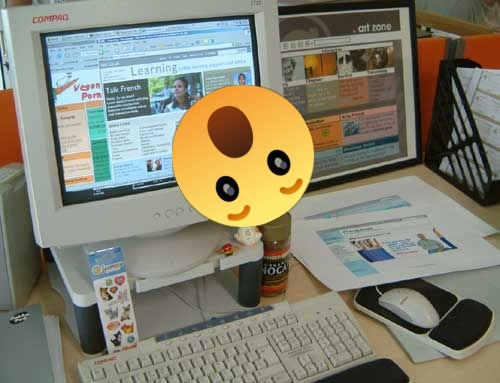wow: (172, 85, 314, 227)
